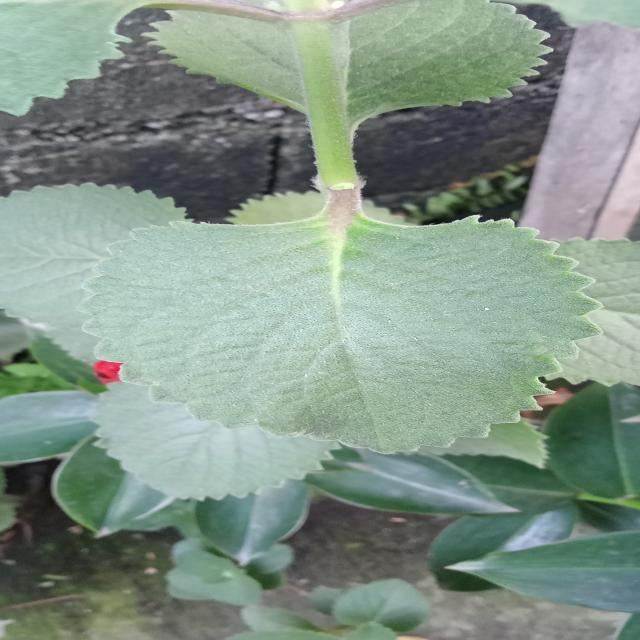Oregano: (70, 186, 640, 502)
